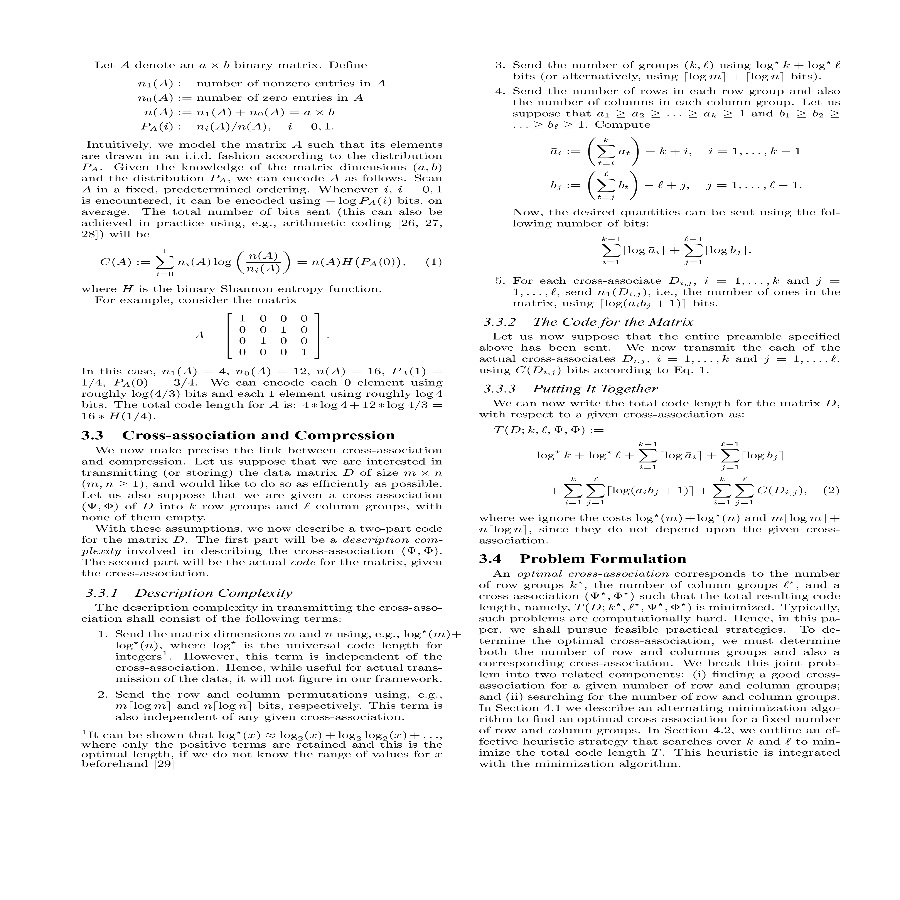eq: (492, 423, 802, 509), (96, 245, 402, 276), (547, 169, 798, 201), (547, 134, 802, 165), (194, 310, 322, 364), (598, 232, 748, 268)
